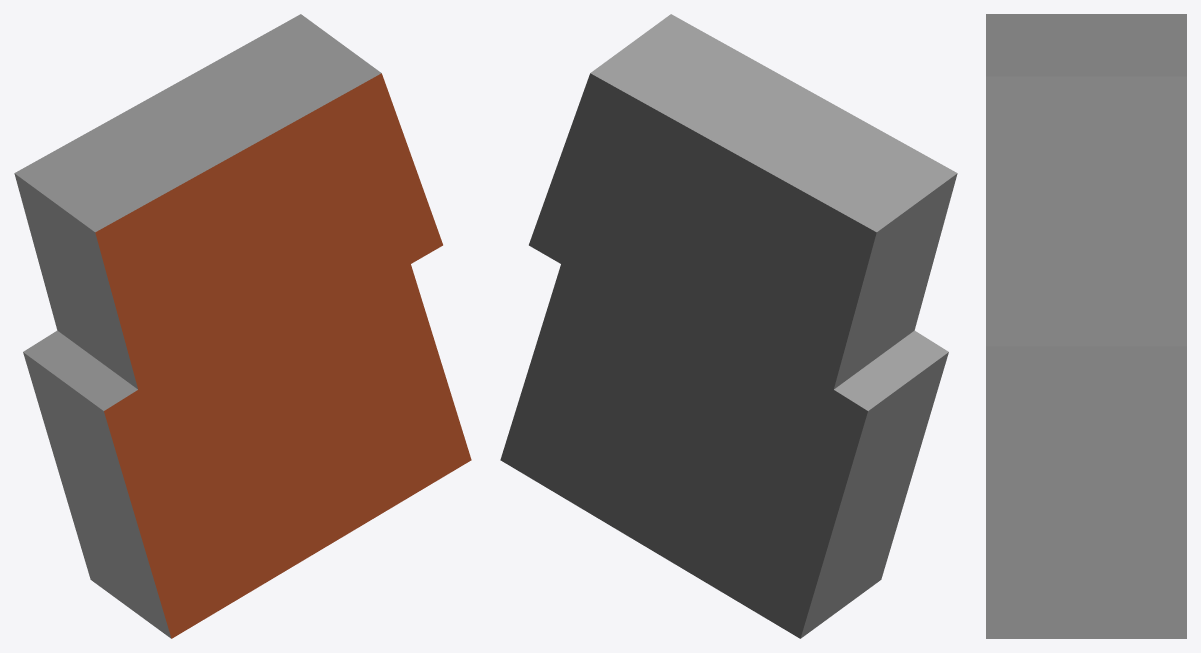
The model's file is construction_4051_assumed_A_Casa_h6m.obj.
3 renders of one model, left to right at view 1: azimuth 30°, elevation 25°; view 2: azimuth 150°, elevation 25°; view 3: azimuth 270°, elevation 25°, orthographic. The views are drawn at different scales.
Parts seen in each view (by area): view 1: construction_4051_assumed_A_Casa; view 2: construction_4051_assumed_A_Casa; view 3: construction_4051_assumed_A_Casa.
Boxes of the visible parts, box(x1,y1,x2,y2) form: construction_4051_assumed_A_Casa: box(14, 14, 471, 638); construction_4051_assumed_A_Casa: box(500, 14, 957, 638); construction_4051_assumed_A_Casa: box(986, 14, 1186, 638).
Size of the model in its own units: 16.12 by 21.05 by 6.
